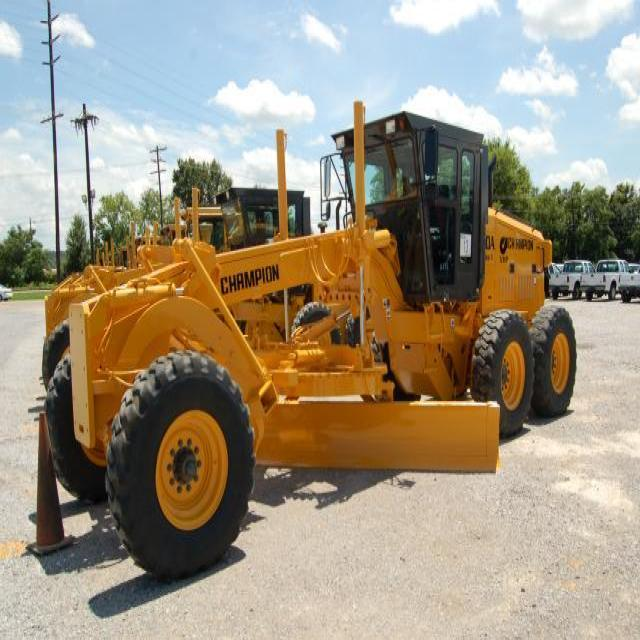buldozerpayloadergrader: (36, 93, 598, 574)
